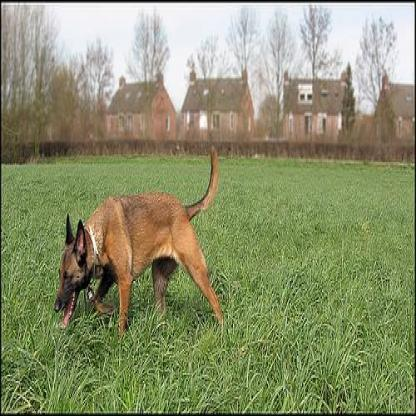malinois: (52, 141, 222, 335)
